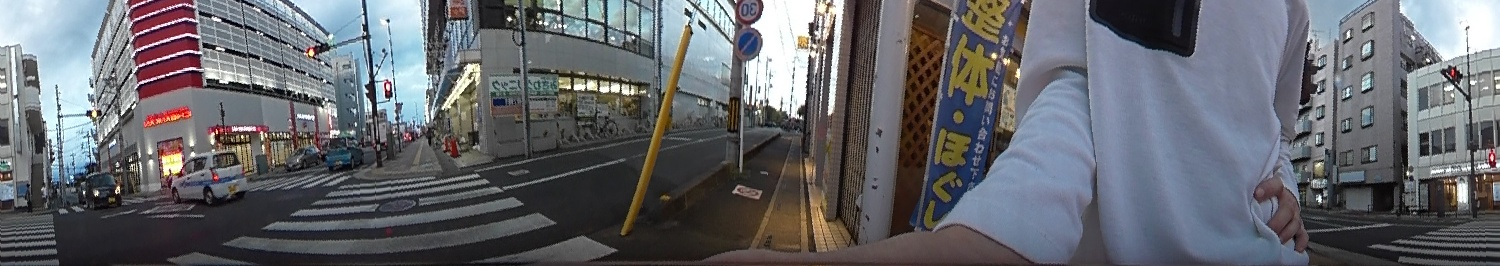difficult_person: (37, 181, 51, 207), (24, 180, 35, 211), (424, 123, 434, 149)
